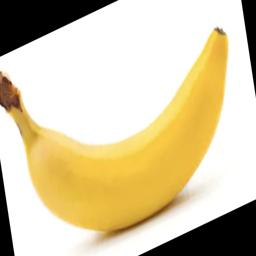Banana Fresh: (4, 56, 256, 236)
